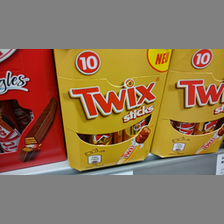chocolate: (53, 47, 170, 170), (1, 49, 66, 173), (156, 49, 224, 159)
